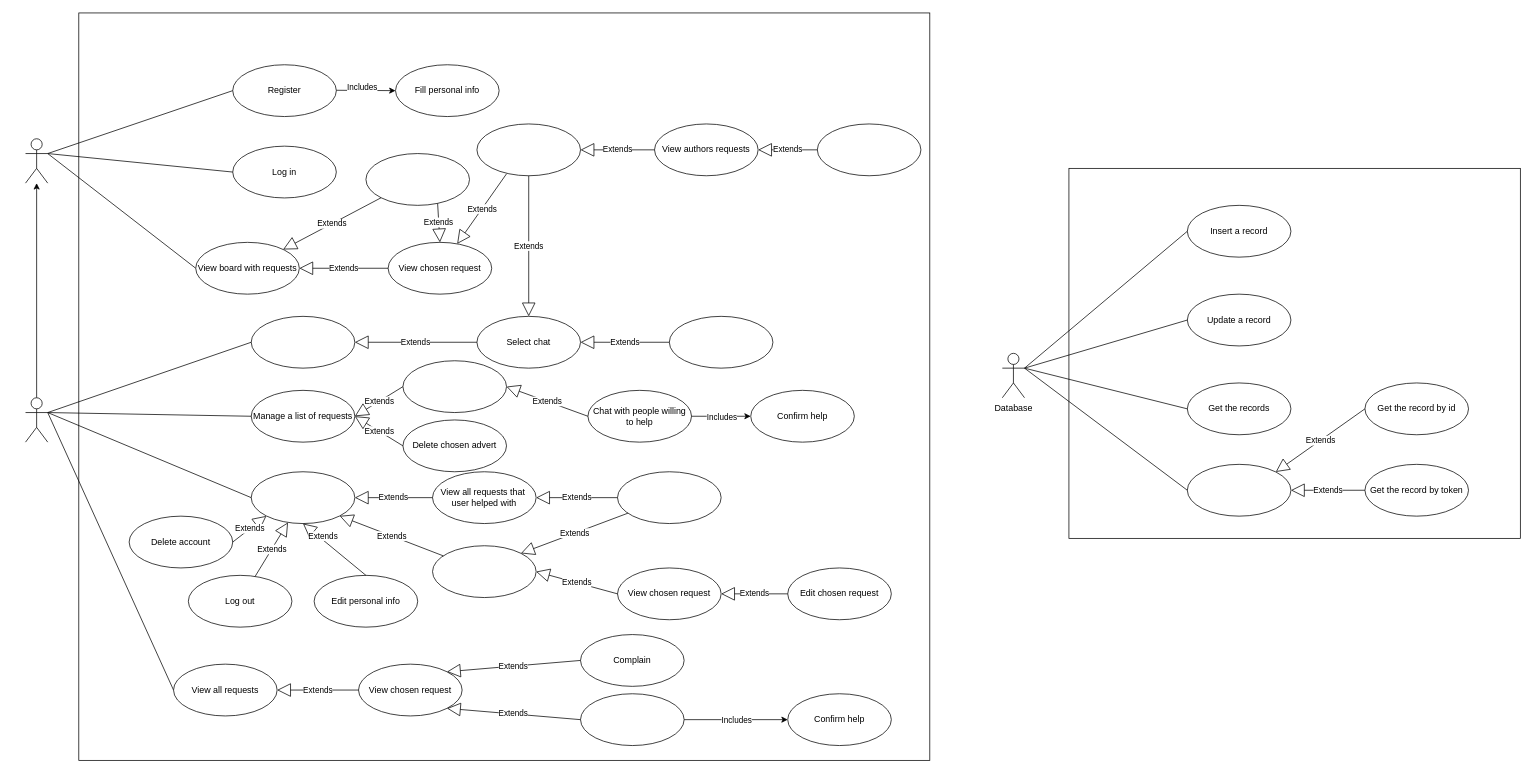
Some shapes in this 1533 by 773 pixel diagram are drawn without their labels. The centre of each missing label's shape, as x and y in pixels:
Authorized user: pixel 36 419
Chat: pixel 302 342
Communicate with the chosen person: pixel 721 342
Filter requests: pixel 417 179
Get the record: pixel 1239 490
Message to request creator: pixel 632 719
Post new request: pixel 454 386
Show inactive requests: pixel 669 497
Unathorized user: pixel 36 160
View all requests of the user: pixel 484 571
View authors profile: pixel 528 149
View chosen authors request: pixel 869 149
View profile info: pixel 302 497
